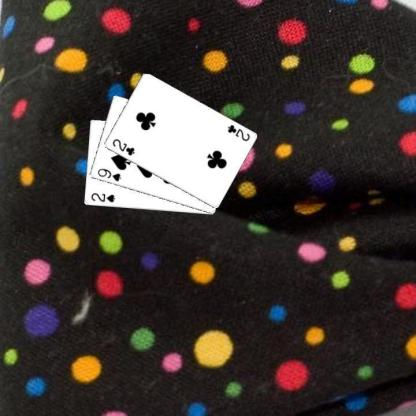2C: (110, 136, 136, 158), (225, 122, 251, 143)
2S: (89, 191, 116, 204)
9S: (95, 166, 122, 182)
